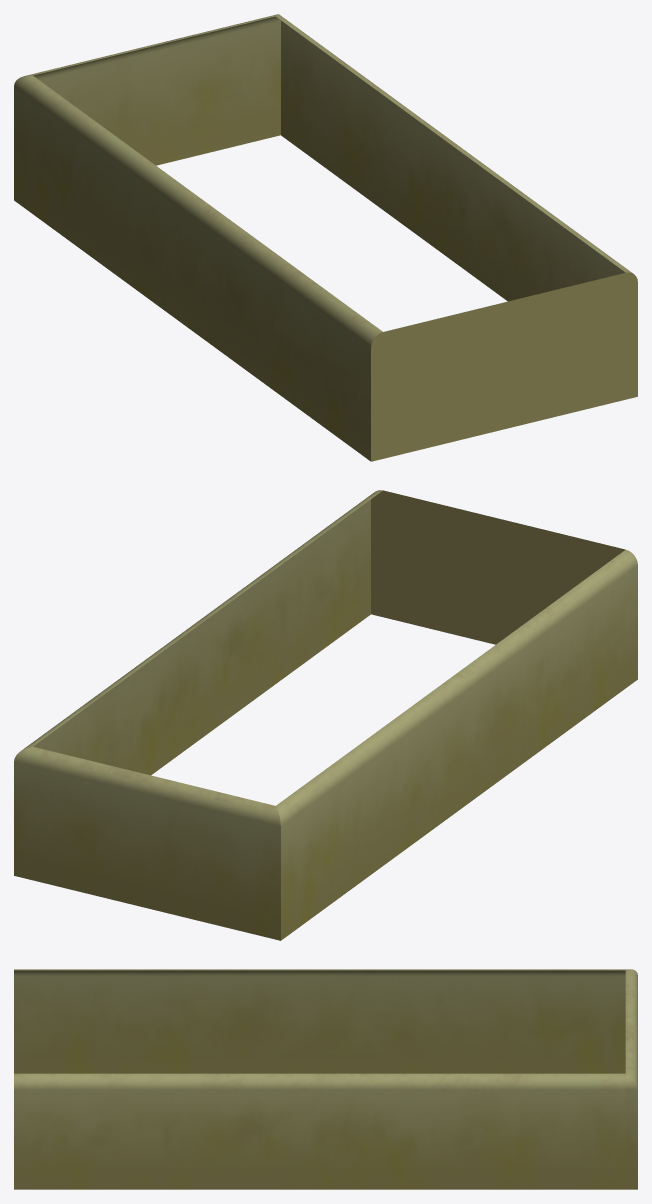
File: ColliderCutSmall.fbx
3 views of the same model, one above another, from view 1: azimuth 30°, elevation 25°; view 2: azimuth 150°, elevation 25°; view 3: azimuth 270°, elevation 25° (orthographic). The views are drawn at different scales.
Visible parts, largest first — view 1: ColliderCutSmall; view 2: ColliderCutSmall; view 3: ColliderCutSmall.
Part boxes in pixels (box(x1,y1,x2,y2)): ColliderCutSmall: box(14, 14, 637, 461); ColliderCutSmall: box(14, 490, 637, 940); ColliderCutSmall: box(14, 969, 637, 1189).
Size of the model in its own units: 55 by 25 by 128.
